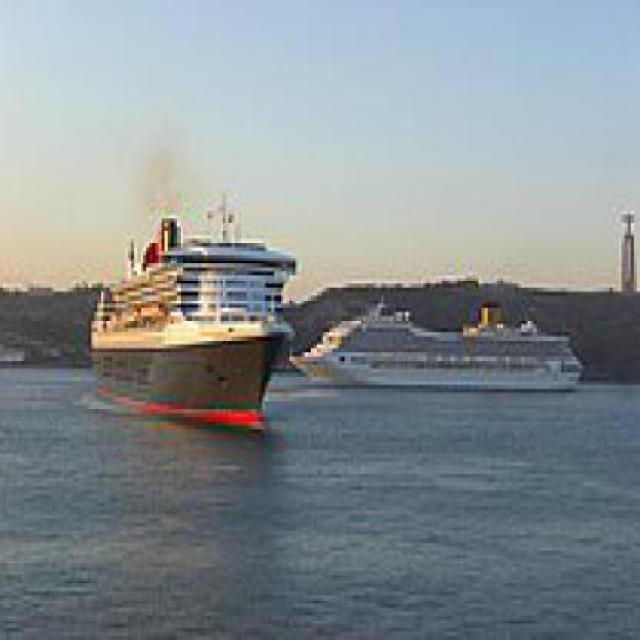cruise: (77, 175, 310, 442), (282, 288, 593, 406)
